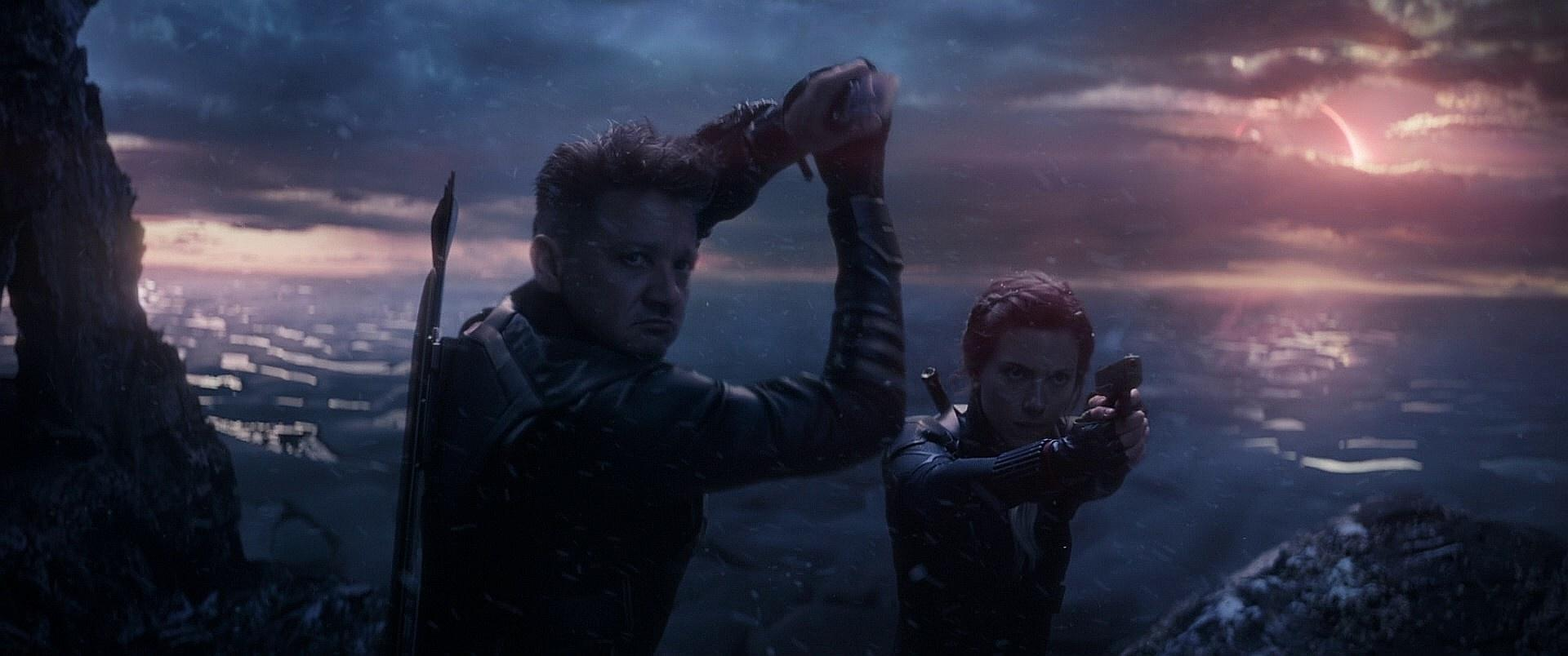gun: (1087, 347, 1147, 473)
